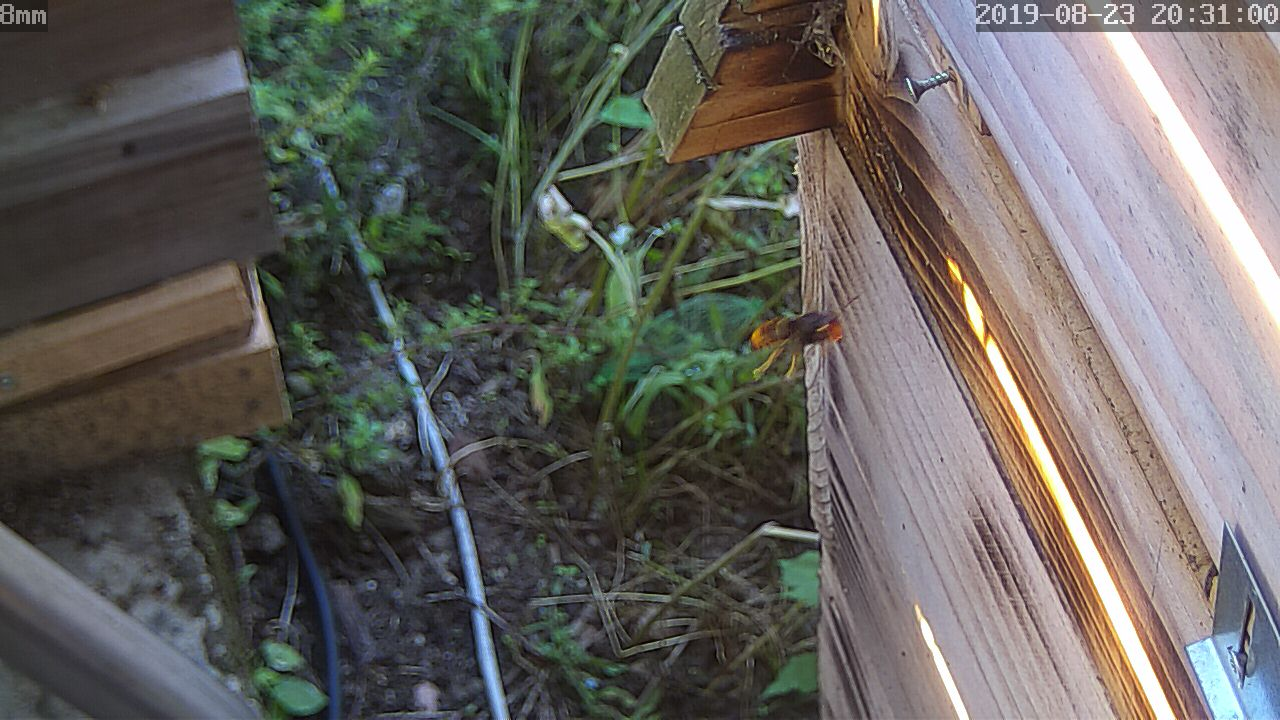hornet: (738, 286, 853, 370)
